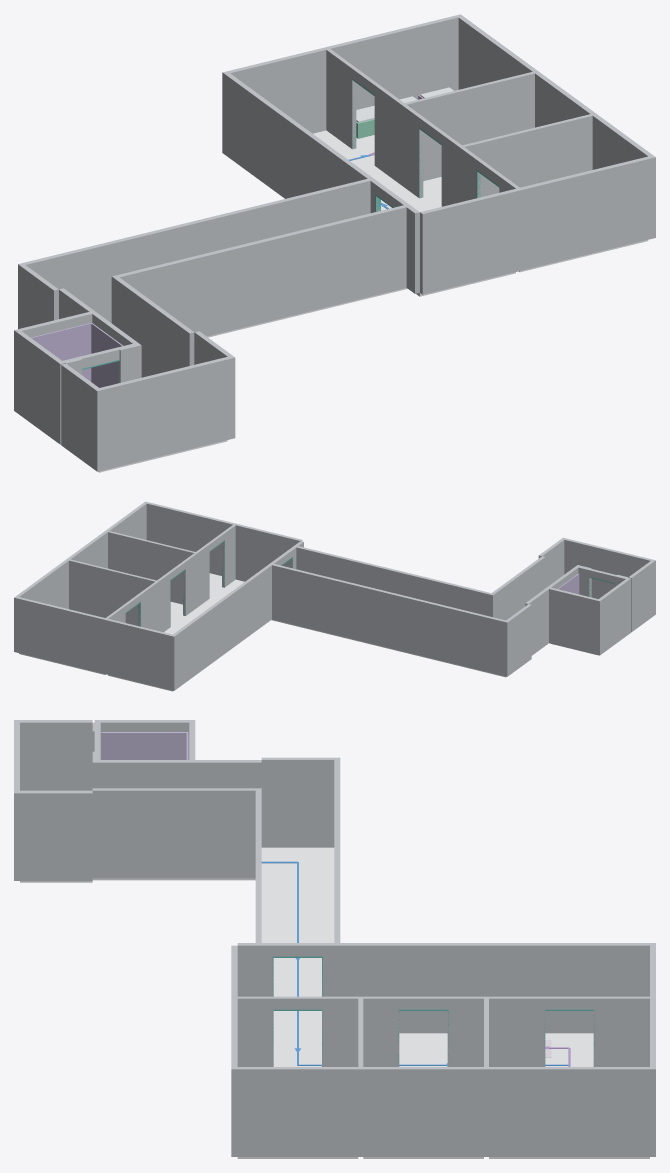
The model's file is rez_de_chaussee.glb.
3 renders of one model, top to bottom at view 1: azimuth 30°, elevation 25°; view 2: azimuth 150°, elevation 25°; view 3: azimuth 270°, elevation 25°, orthographic. The views are drawn at different scales.
Parts seen in each view (by area): view 1: RDC; view 2: RDC; view 3: RDC, RDC_P1_entree_hall_linteau, RDC_depot_2_linteau, RDC_depot_3_linteau, RDC_depot_1_linteau.
Boxes of the visible parts, box(x1,y1,x2,y2) form: RDC: box(14, 14, 655, 472); RDC: box(14, 501, 655, 691); RDC: box(14, 720, 655, 1158); RDC_P1_entree_hall_linteau: box(273, 943, 321, 956); RDC_depot_2_linteau: box(399, 996, 447, 1009); RDC_depot_3_linteau: box(545, 996, 593, 1009); RDC_depot_1_linteau: box(273, 996, 321, 1009).
Bounding box in the file's own units: 20.52 × 2.52 × 15.94.
